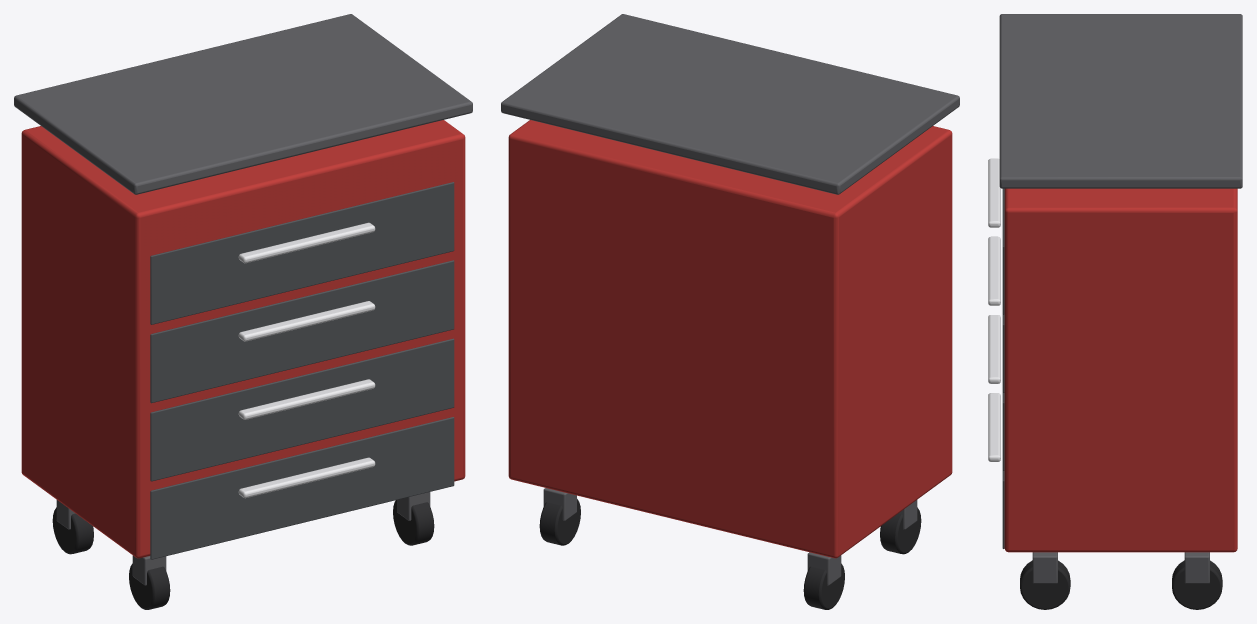
File: toolbox.glb
3 renders of one model, left to right at view 1: azimuth 30°, elevation 25°; view 2: azimuth 150°, elevation 25°; view 3: azimuth 270°, elevation 25°, orthographic.
Parts seen in each view (by area): view 1: toolbox; view 2: toolbox; view 3: toolbox.
Part boxes in pixels (left/top/right/bottom): toolbox: left=14, top=14, right=472, bottom=609; toolbox: left=501, top=14, right=959, bottom=609; toolbox: left=988, top=14, right=1242, bottom=609.
Size of the model in its own units: 0.77 by 0.9725 by 0.5025.
